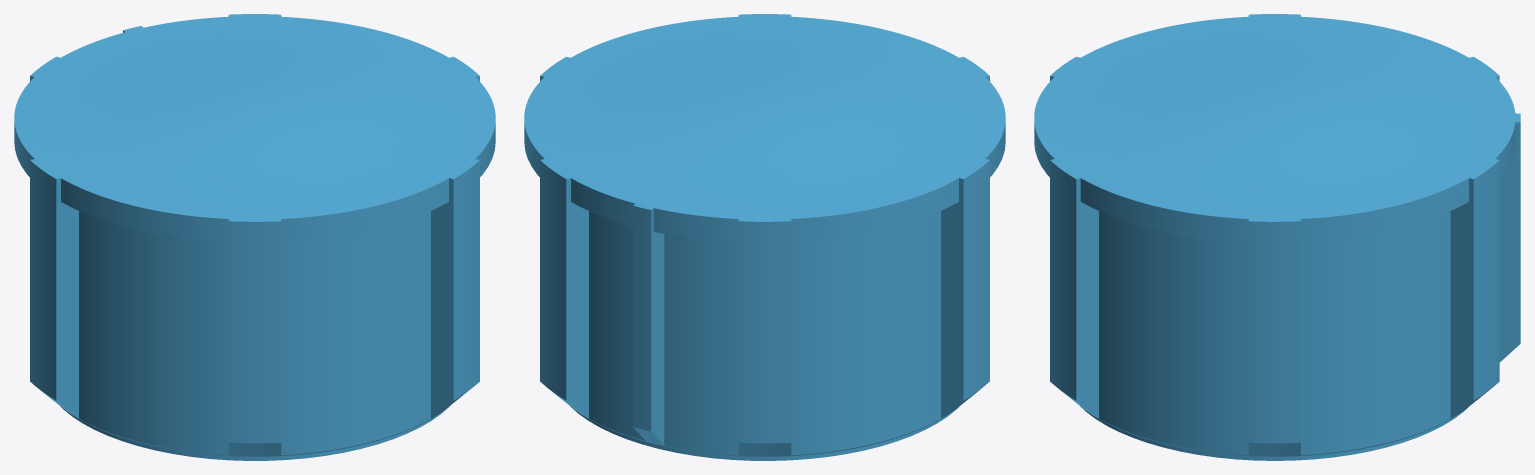
File: AS-FS_BLUE_CAP.glb
3 renders of one model, left to right at view 1: azimuth 30°, elevation 25°; view 2: azimuth 150°, elevation 25°; view 3: azimuth 270°, elevation 25°, orthographic.
Visible parts, largest first — view 1: AS2201FS1-01-08S_Handle_Gray; view 2: AS2201FS1-01-08S_Handle_Gray; view 3: AS2201FS1-01-08S_Handle_Gray.
Part boxes in pixels (x1=…): AS2201FS1-01-08S_Handle_Gray: x1=14, y1=14, x2=495, y2=460; AS2201FS1-01-08S_Handle_Gray: x1=524, y1=14, x2=1005, y2=460; AS2201FS1-01-08S_Handle_Gray: x1=1034, y1=14, x2=1520, y2=460.
Bounding box in the file's own units: 0.0094 × 0.00555 × 0.0093.
